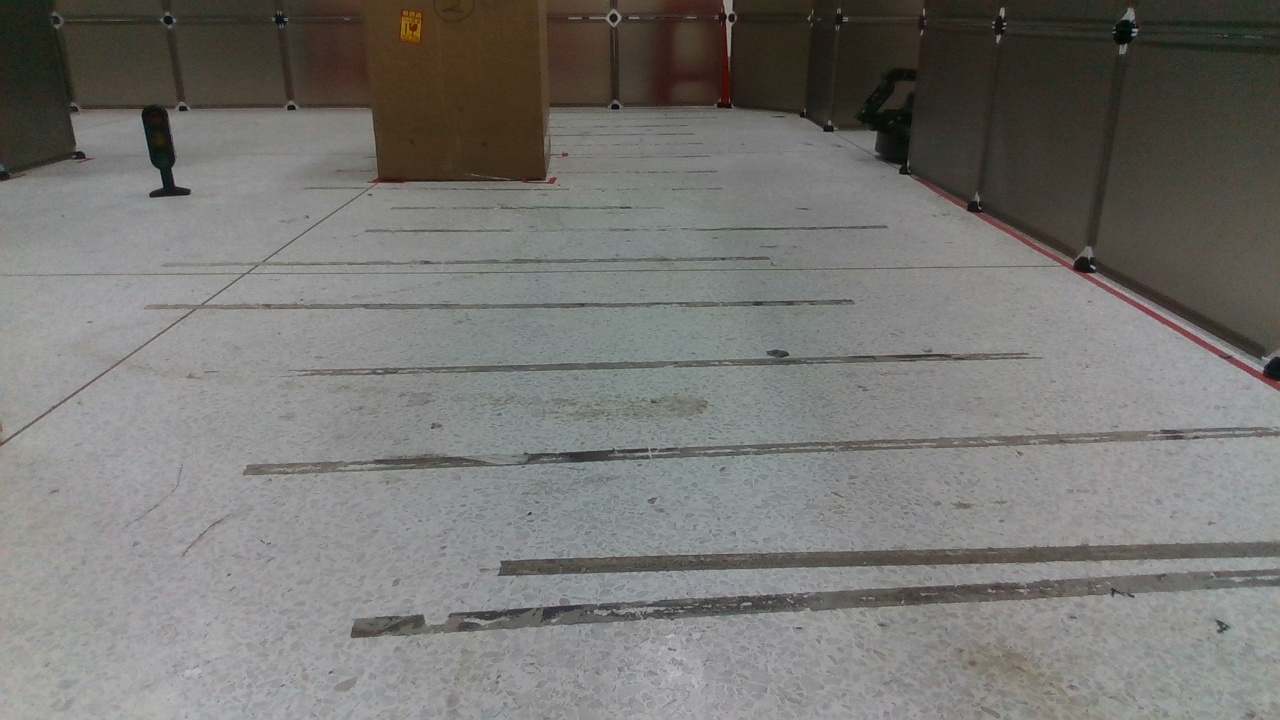Dim traffic light: (131, 103, 195, 200)
